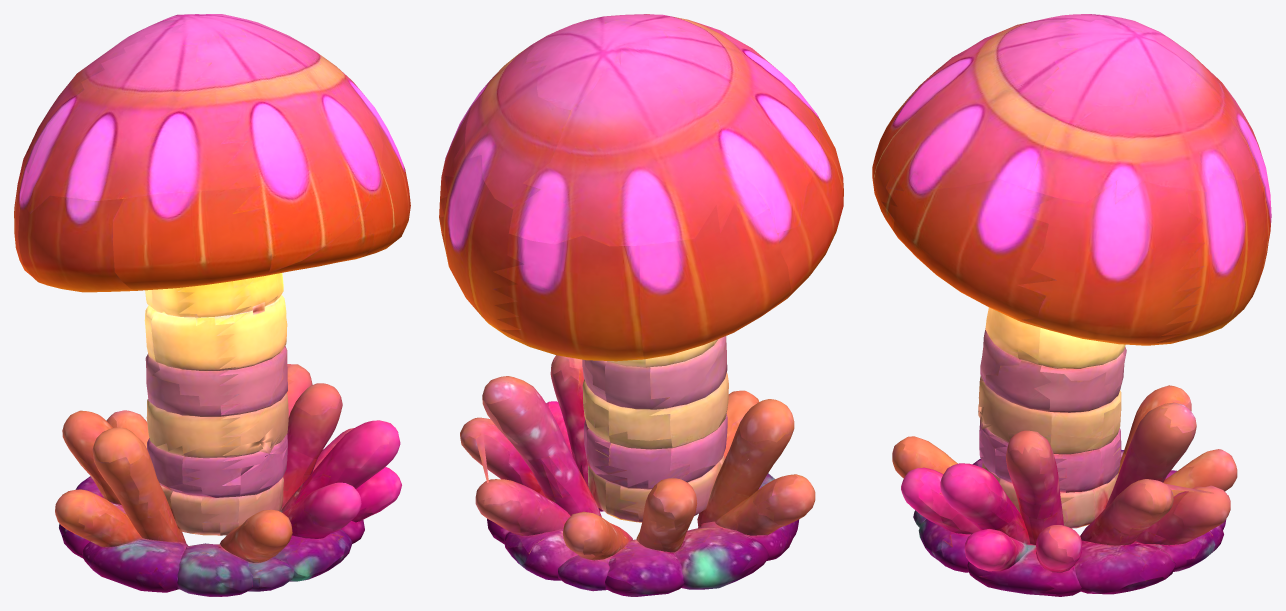
File: lantern-mushroom.glb
The picture shows the model from 3 angles, left to right: view 1: azimuth 30°, elevation 25°; view 2: azimuth 150°, elevation 25°; view 3: azimuth 270°, elevation 25°; orthographic projection.
Bounding box in the file's own units: 0.7207 × 1 × 0.707.
1 material, 1 textured.
